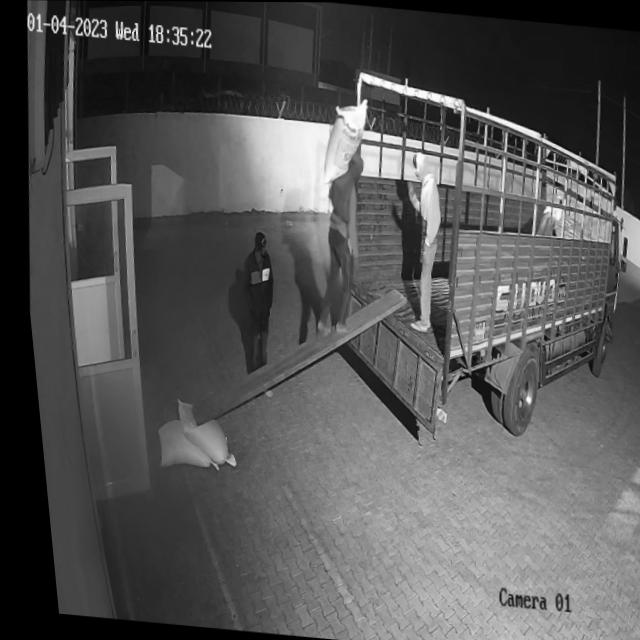sack: (312, 93, 372, 189), (162, 397, 232, 466), (145, 416, 214, 473)
